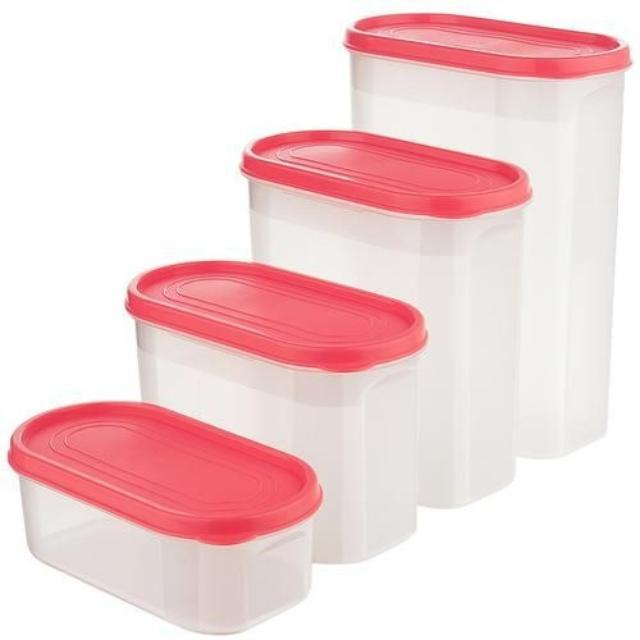plastic: (7, 13, 630, 633)
